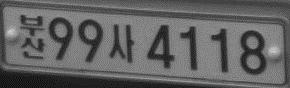1: (208, 27, 232, 73), (178, 26, 202, 70)
4: (146, 24, 175, 69)
8: (238, 29, 267, 74)
9: (77, 18, 104, 63), (47, 16, 73, 60)
부산_V: (19, 14, 45, 59)
사: (108, 24, 134, 63)
